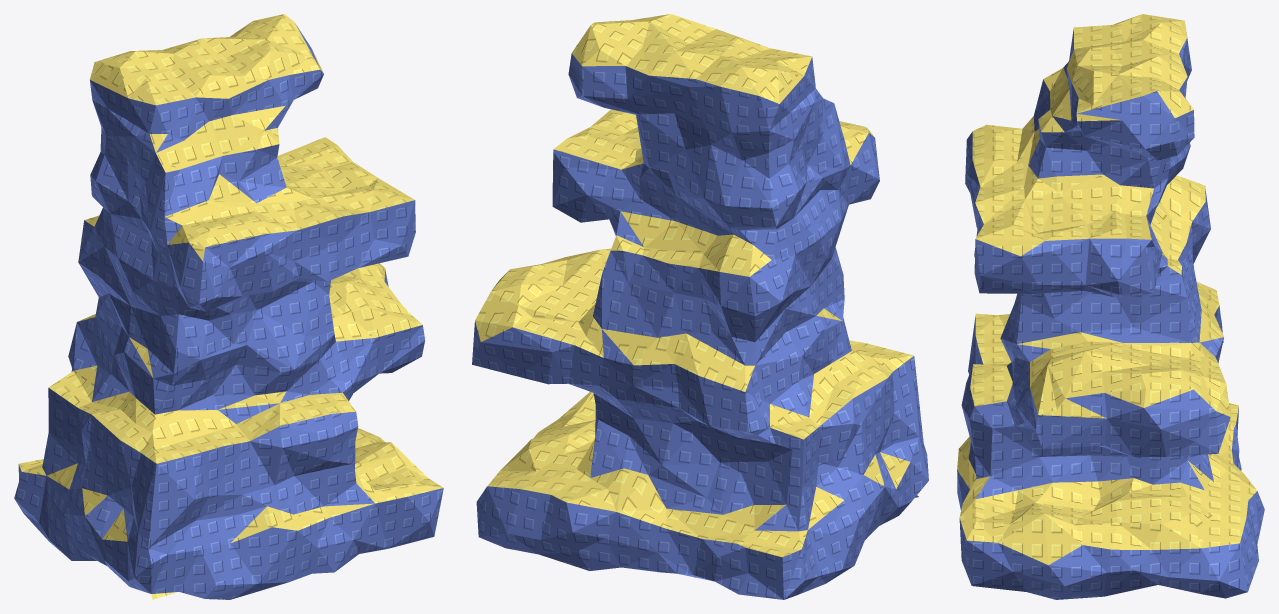
File: ReefPinnacleTall.glb
3 views of the same model, side by side, from view 1: azimuth 30°, elevation 25°; view 2: azimuth 150°, elevation 25°; view 3: azimuth 270°, elevation 25° (orthographic). The views are drawn at different scales.
Visible parts, largest first — view 1: ReefPinnacleTall_Rock, ReefPinnacleTall_Top; view 2: ReefPinnacleTall_Rock, ReefPinnacleTall_Top; view 3: ReefPinnacleTall_Rock, ReefPinnacleTall_Top.
Boxes of the visible parts, x1,y1,x2,y2 form: ReefPinnacleTall_Rock: [14, 23, 443, 599]; ReefPinnacleTall_Top: [19, 14, 443, 599]; ReefPinnacleTall_Rock: [472, 53, 928, 599]; ReefPinnacleTall_Top: [475, 14, 913, 557]; ReefPinnacleTall_Rock: [957, 29, 1264, 599]; ReefPinnacleTall_Top: [957, 14, 1257, 565].
Bounding box in the file's own units: 19.73 × 27.16 × 15.62.
Materials: 2 (2 with a texture image).
